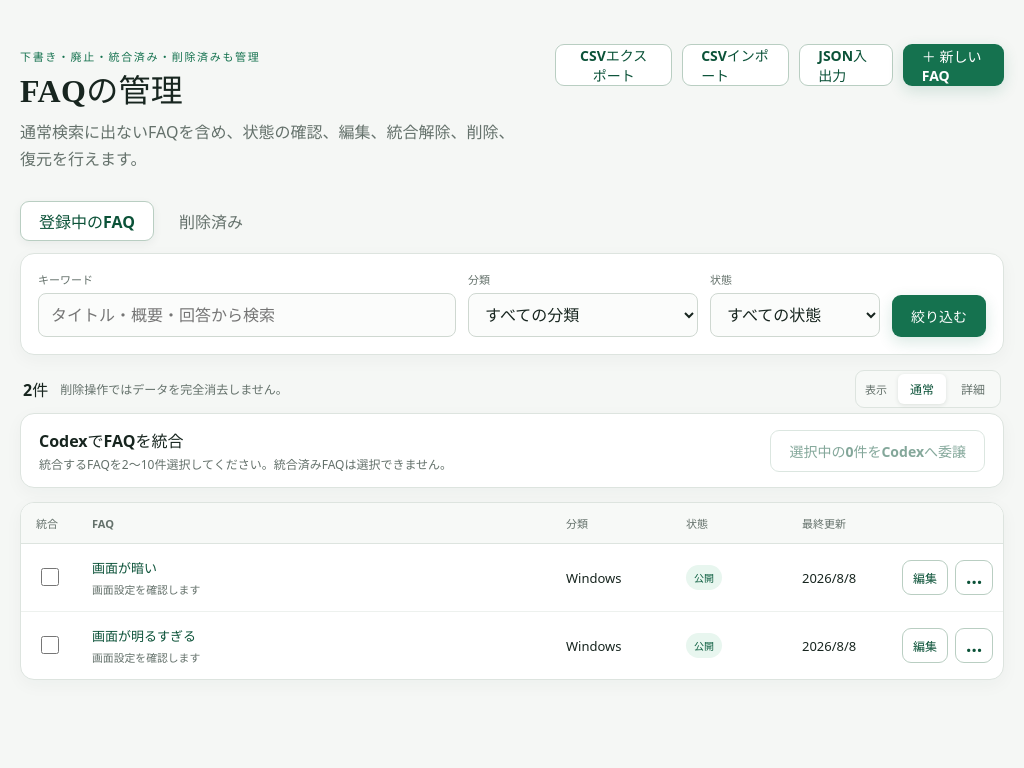
ArticleManagementPage › delegates two selected FAQs to Codex for a non-destructive merge
The width and height of the screenshot is (1024, 768).
Click the checkbox named "「画面が暗い」": (50, 577) [40,568,58,586]
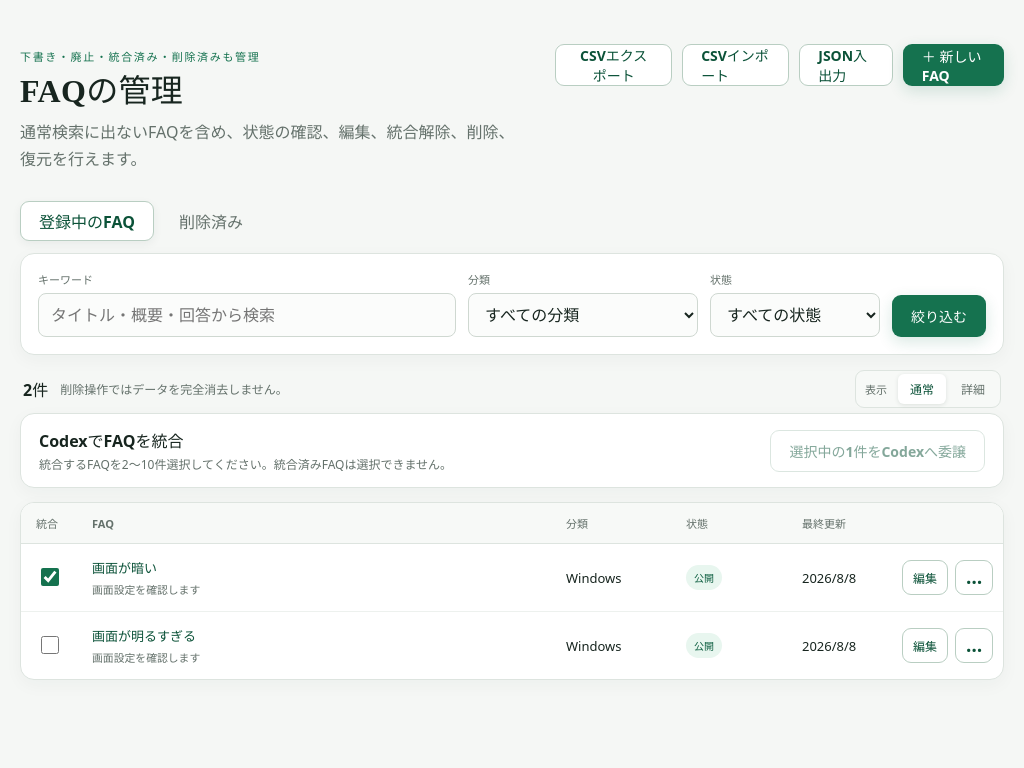
Click the checkbox named "「画面が明るすぎる」": (50, 645) [40,636,58,654]
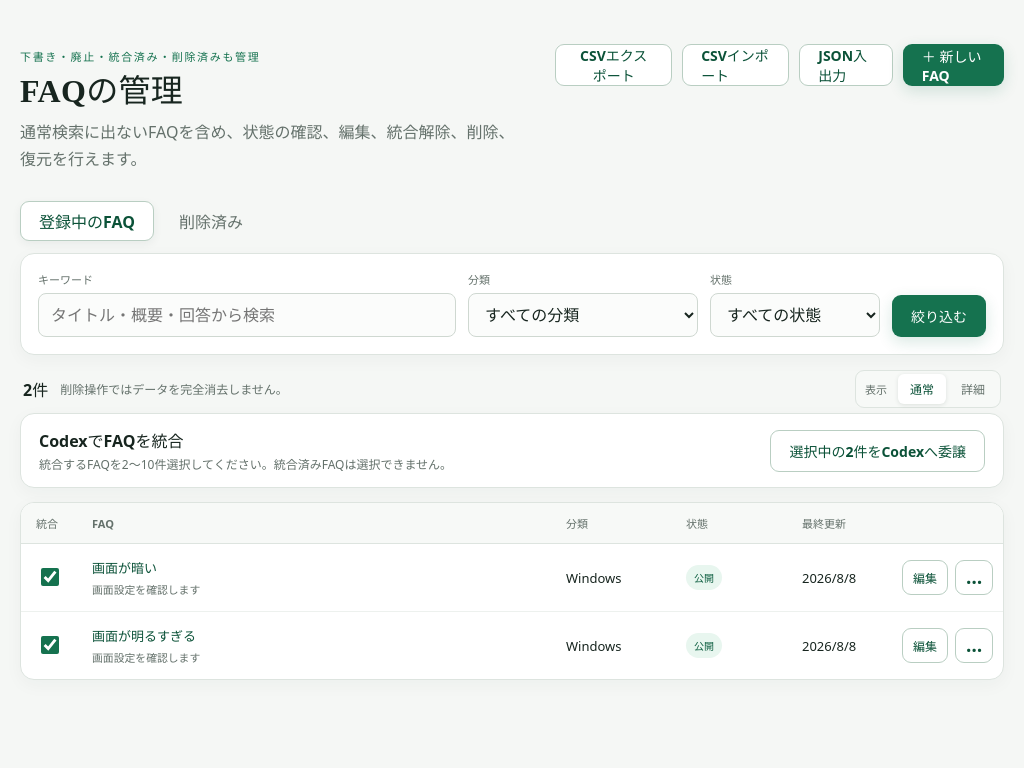
Click the button "選択中の2件をCodexへ委譲": (878, 451) [770,430,985,472]
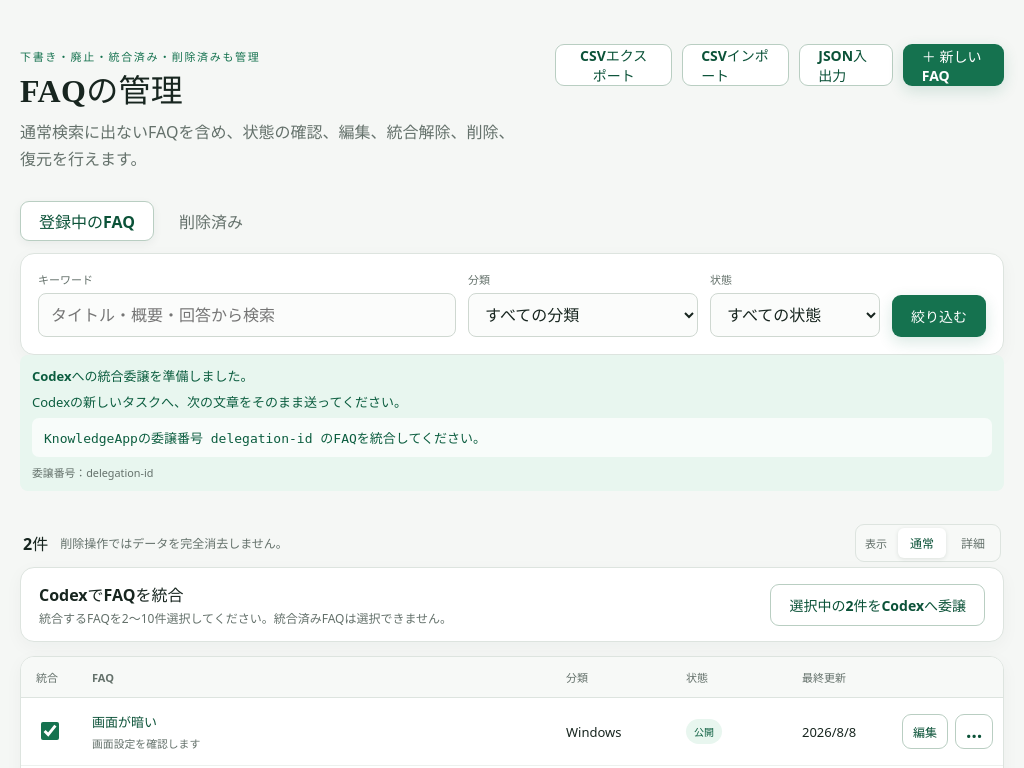
Now the text "KnowledgeAppの委譲番号 delegation-id のFAQを統合してください。" is shown, box [32,418,992,457]
